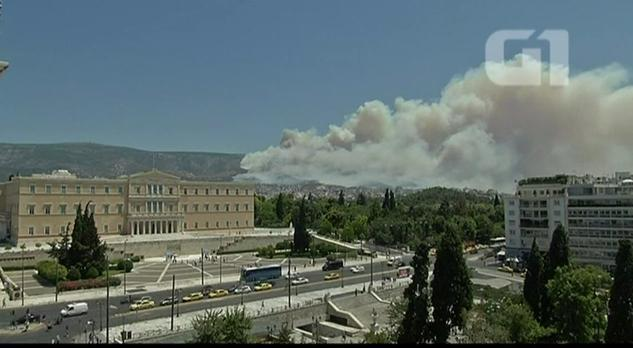smoke: (367, 119, 633, 173)
